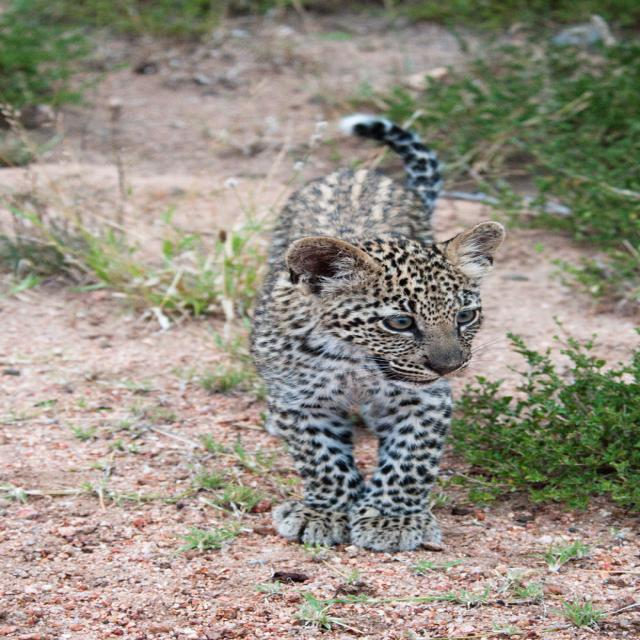Cheetah: (233, 107, 519, 566)
